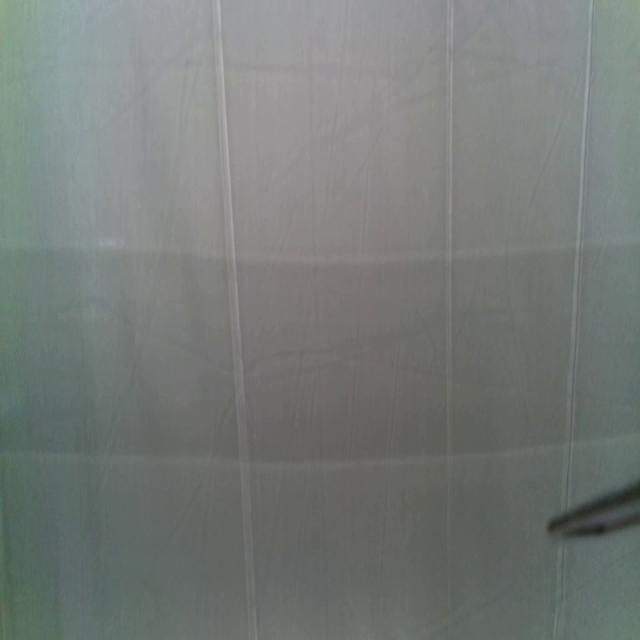color bleeding: (0, 232, 640, 470)
crease: (212, 1, 258, 636), (564, 0, 596, 499), (443, 0, 457, 640), (553, 545, 568, 640)
